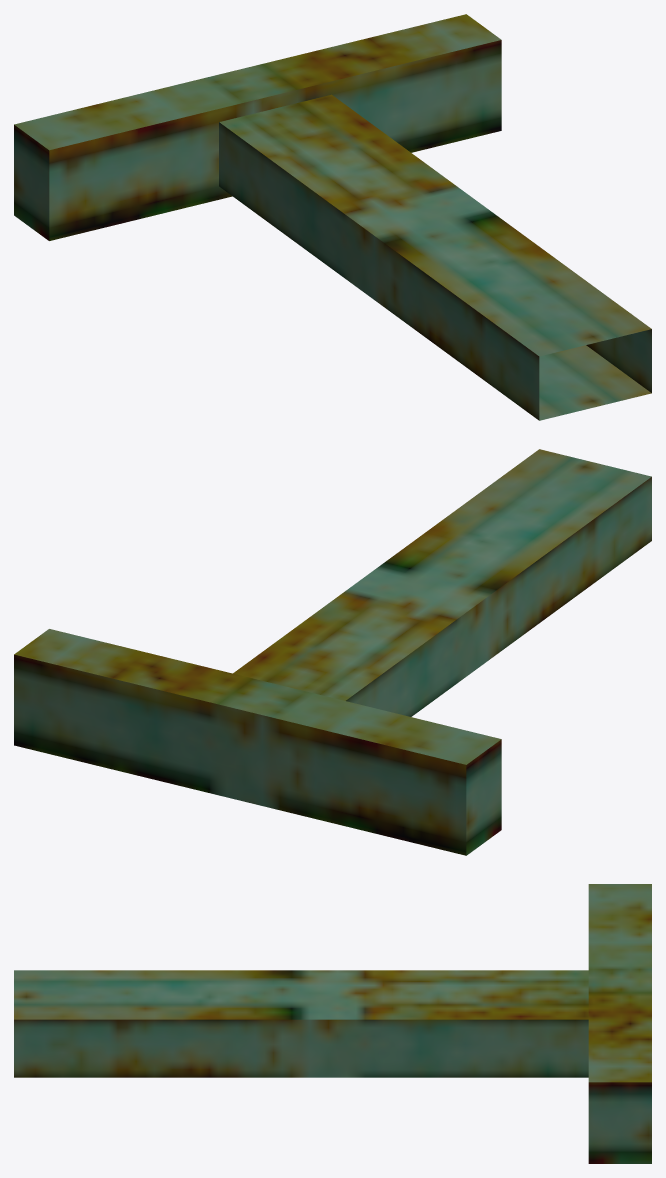
Rendered from puzzle_4X.glb.
The picture shows the model from 3 angles, top to bottom: view 1: azimuth 30°, elevation 25°; view 2: azimuth 150°, elevation 25°; view 3: azimuth 270°, elevation 25°; orthographic projection. The views are drawn at different scales.
Parts seen in each view (by area): view 1: main.004; view 2: main.004; view 3: main.004.
Part boxes in pixels (left/top/right/bottom): main.004: left=14, top=14, right=651, bottom=420; main.004: left=14, top=449, right=651, bottom=855; main.004: left=14, top=884, right=651, bottom=1163.
Size of the model in its own units: 0.8102 by 0.1555 by 1.1.
1 material, 1 textured.
